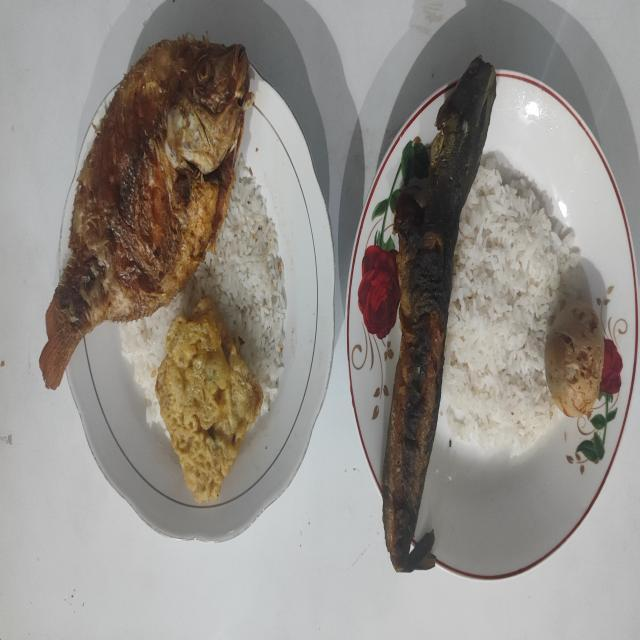ikan_mujair: (40, 36, 253, 389)
nasi_putih: (118, 157, 286, 426), (442, 158, 580, 454)
